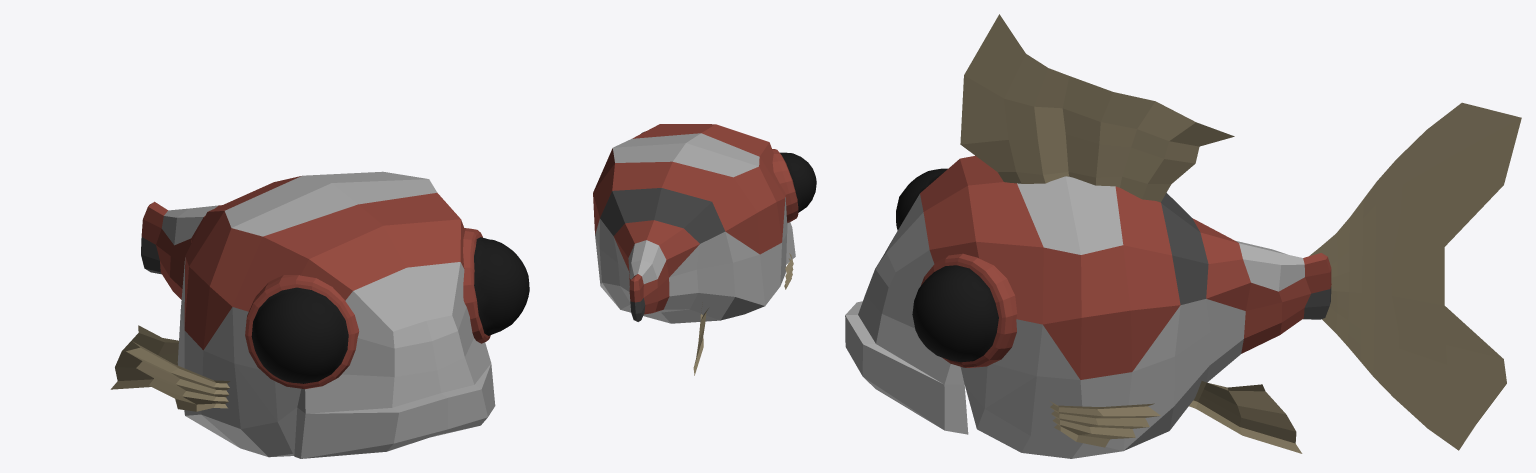
File: Koi.glb
The picture shows the model from 3 angles, left to right: view 1: azimuth 30°, elevation 25°; view 2: azimuth 150°, elevation 25°; view 3: azimuth 270°, elevation 25°; orthographic projection. The views are drawn at different scales.
Parts seen in each view (by area): view 1: Koi_Icosphere.008; view 2: Koi_Icosphere.008; view 3: Koi_Icosphere.008.
Boxes of the visible parts, x1,y1,x2,y2 form: Koi_Icosphere.008: [110, 171, 529, 458]; Koi_Icosphere.008: [593, 124, 816, 375]; Koi_Icosphere.008: [845, 14, 1521, 458].
Size of the model in its own units: 3.15 by 4.47 by 5.6.
1 material, 1 textured.
